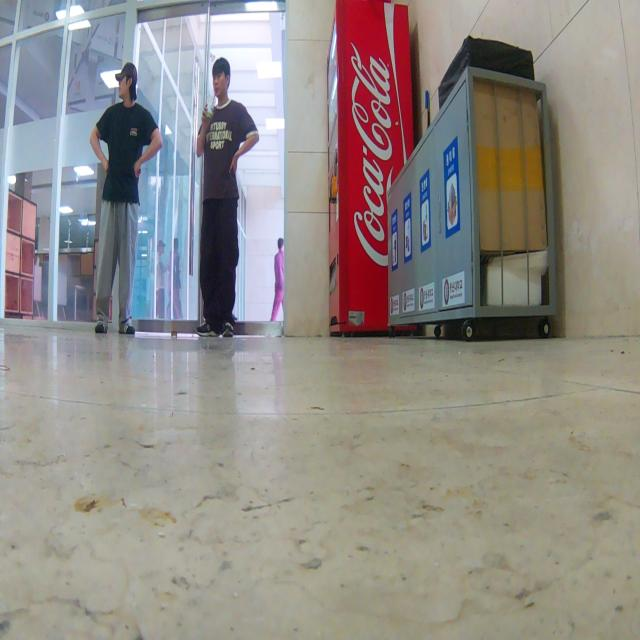target: (169, 318, 179, 340)
